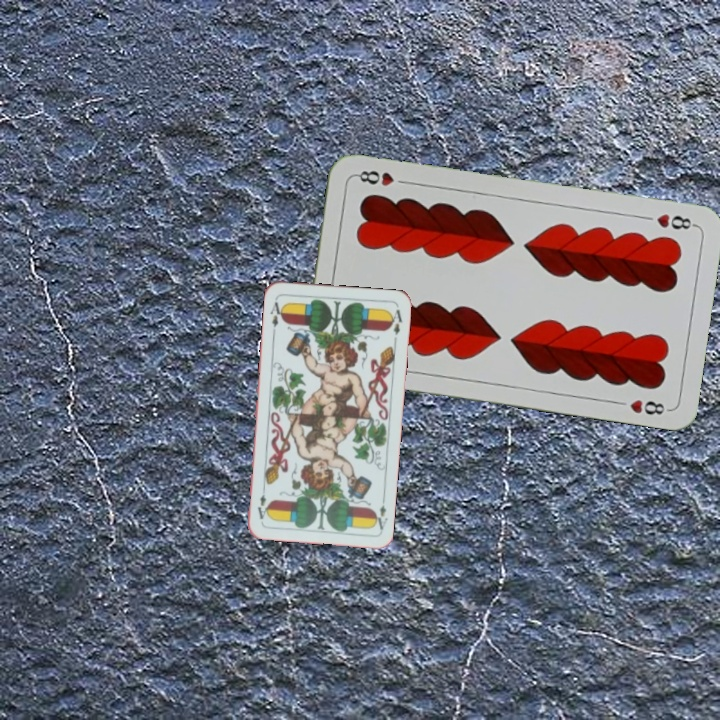EA: (370, 493, 390, 533), (266, 298, 286, 335)
H8: (652, 209, 698, 232)
